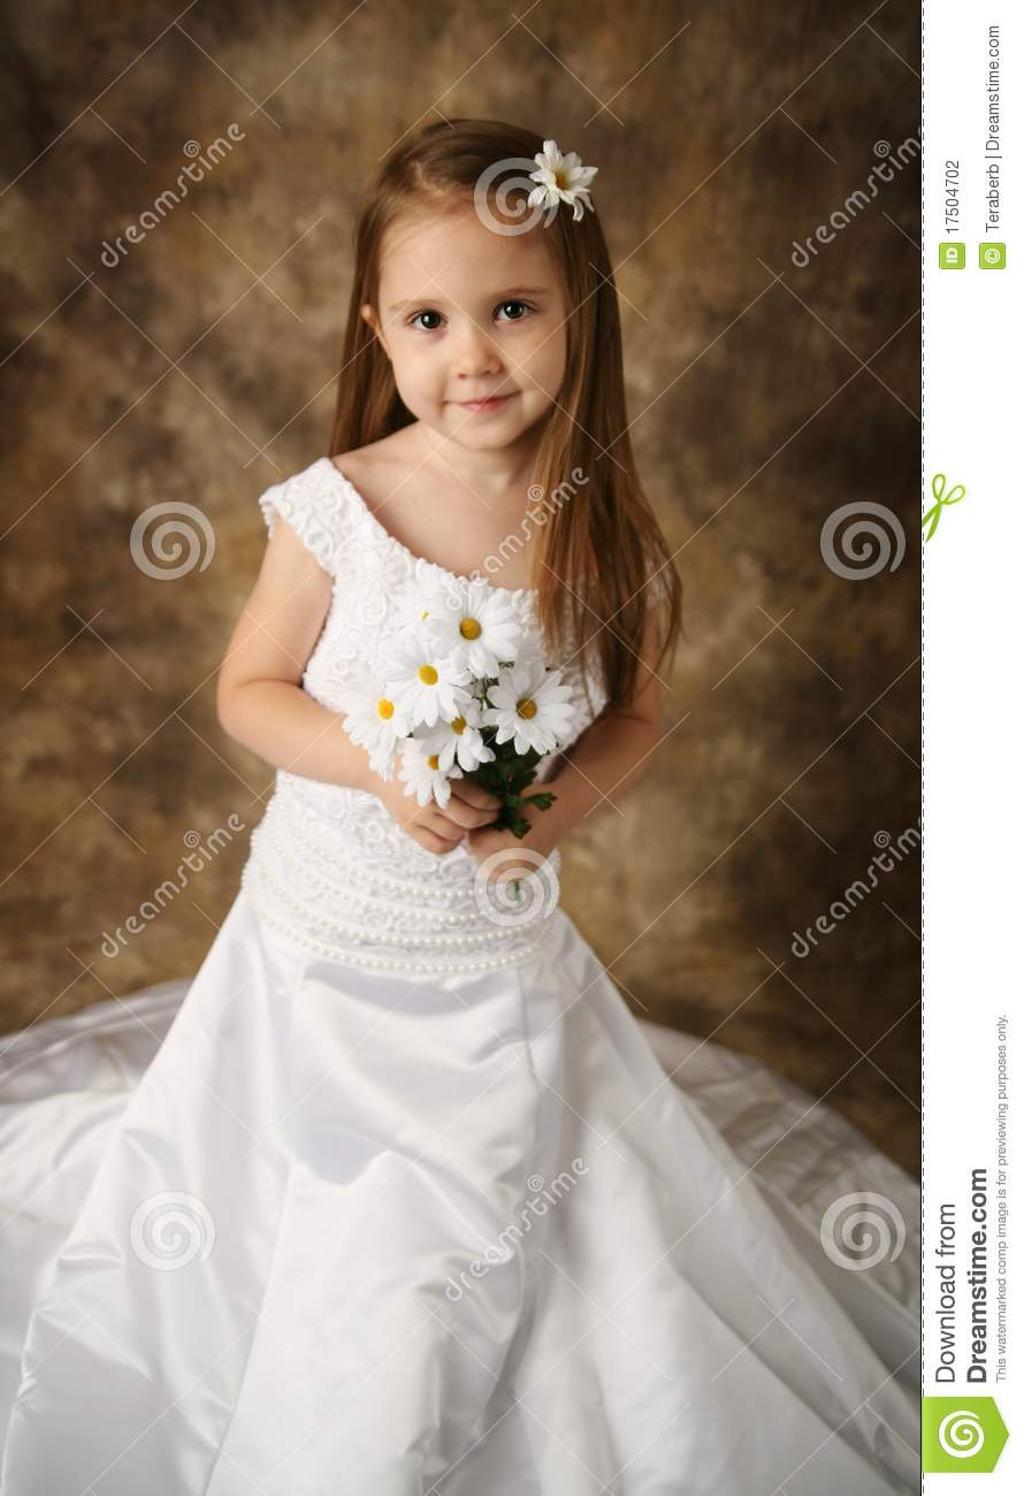face: (383, 191, 567, 451)
